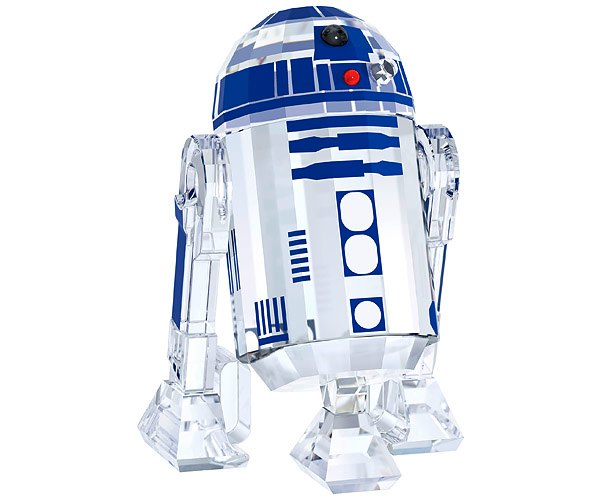r2d2: (147, 5, 464, 488)
